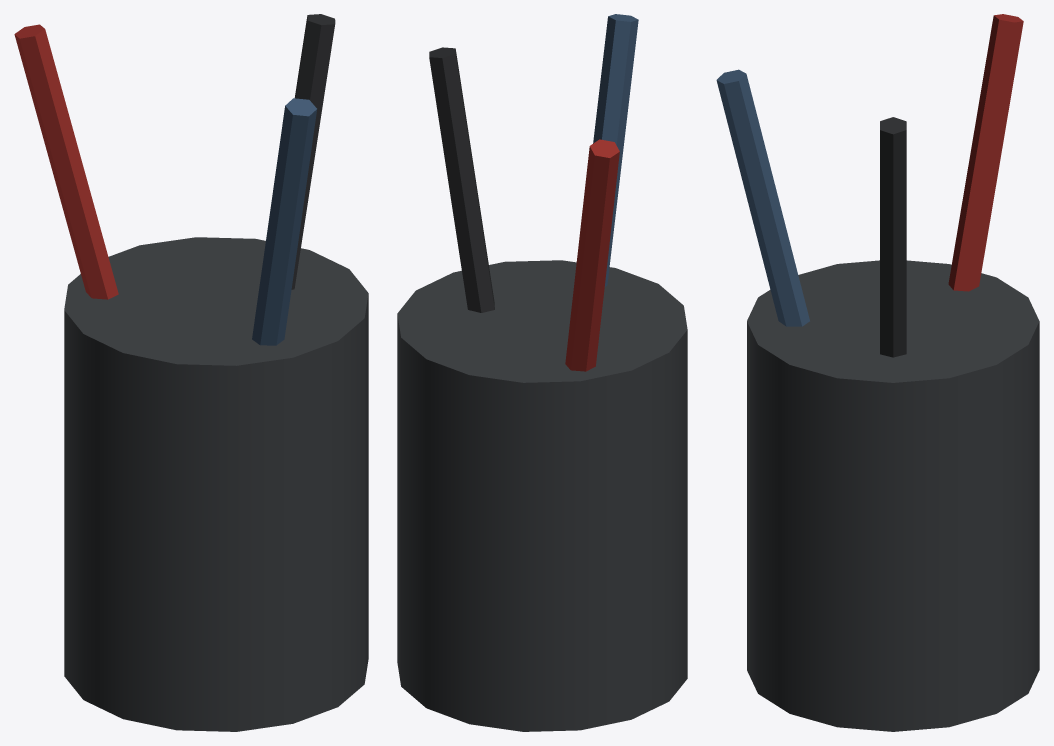
Rendered from prop_pen_cup.glb.
3 views of the same model, side by side, from view 1: azimuth 30°, elevation 25°; view 2: azimuth 150°, elevation 25°; view 3: azimuth 270°, elevation 25° (orthographic). The views are drawn at different scales.
Visible parts, largest first — view 1: Cup; view 2: Cup; view 3: Cup.
Boxes of the visible parts, <box> form: Cup: <box>14,14,368,731</box>; Cup: <box>397,14,687,731</box>; Cup: <box>716,14,1039,731</box>.
Size of the model in its own units: 0.0777 by 0.171 by 0.0839.
